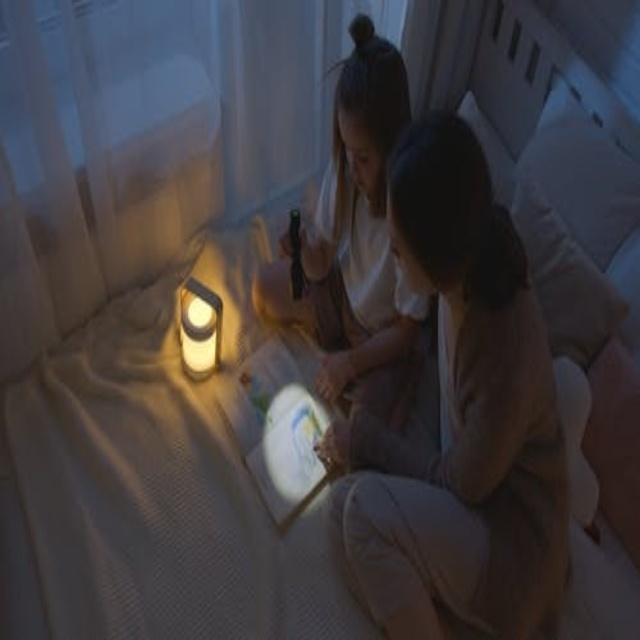Sin_guantes: (312, 344, 359, 408), (313, 421, 343, 471)
